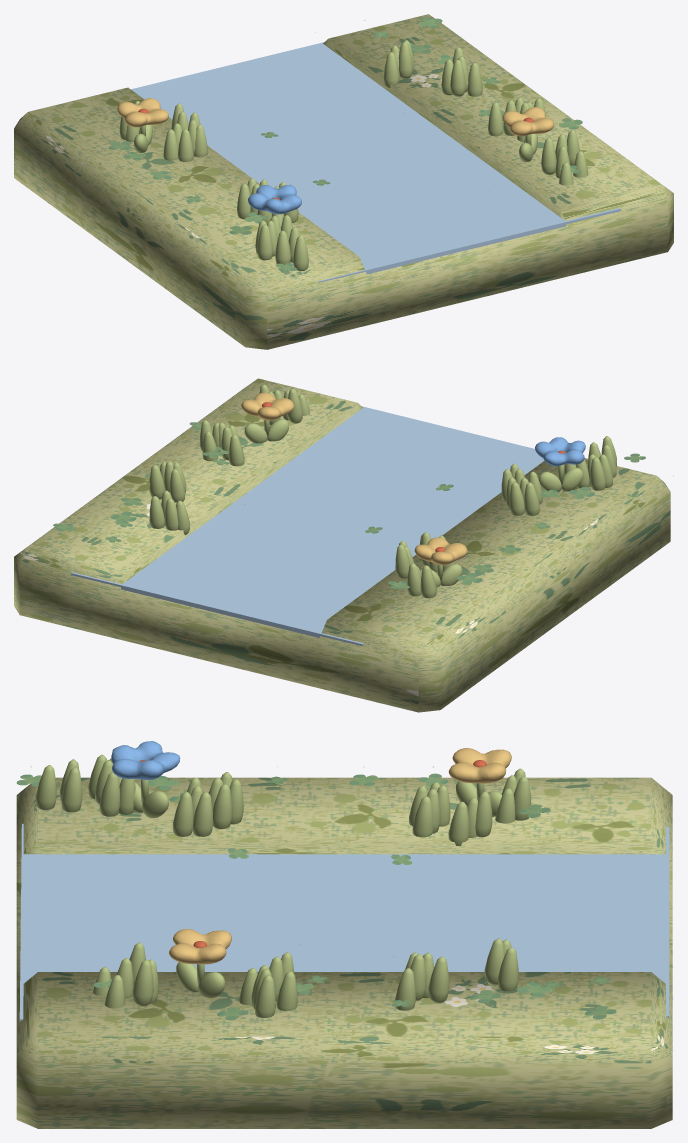
File: whileroad.fbx
The picture shows the model from 3 angles, top to bottom: view 1: azimuth 30°, elevation 25°; view 2: azimuth 150°, elevation 25°; view 3: azimuth 270°, elevation 25°; orthographic projection. The views are drawn at different scales.
Visible parts, largest first — view 1: Cube.007; view 2: Cube.007; view 3: Cube.007.
Boxes of the visible parts, x1,y1,x2,y2 form: Cube.007: (14, 14, 673, 349); Cube.007: (14, 378, 673, 712); Cube.007: (16, 741, 673, 1128).
Bounding box in the file's own units: 200 × 48.98 × 201.
